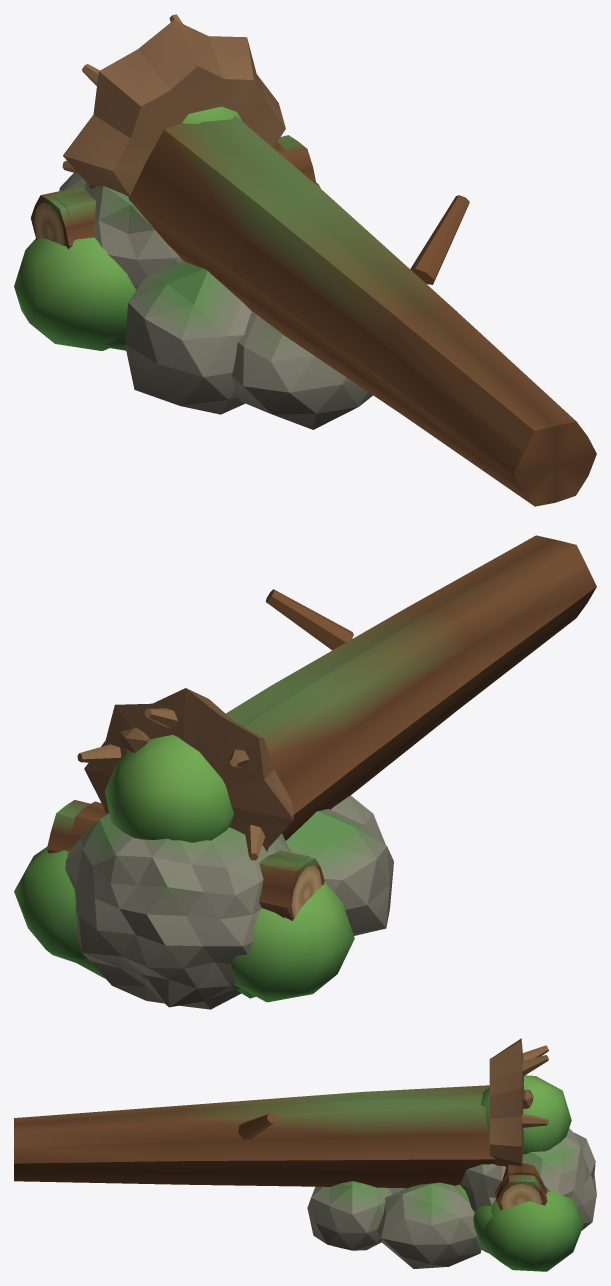
Rendered from props.glb.
3 renders of one model, top to bottom at view 1: azimuth 30°, elevation 25°; view 2: azimuth 150°, elevation 25°; view 3: azimuth 270°, elevation 25°, orthographic. The views are drawn at different scales.
Visible parts, largest first — view 1: blocker_tree_mesh, blocker_rocks_mesh, bush_a_mesh, log_c_mesh, log_a_mesh, bush_b_mesh; view 2: blocker_tree_mesh, blocker_rocks_mesh, bush_a_mesh, bush_b_mesh, log_c_mesh, log_b_mesh; view 3: blocker_tree_mesh, blocker_rocks_mesh, bush_a_mesh, bush_b_mesh, log_c_mesh, bush_c_mesh, log_b_mesh.
Boxes of the visible parts, x1,y1,x2,y2 form: blocker_tree_mesh: [62, 14, 596, 506]; blocker_rocks_mesh: [59, 173, 372, 429]; bush_a_mesh: [14, 183, 320, 350]; log_c_mesh: [31, 135, 316, 249]; log_a_mesh: [52, 189, 95, 239]; bush_b_mesh: [105, 106, 242, 350]; blocker_tree_mesh: [77, 535, 596, 860]; blocker_rocks_mesh: [65, 795, 393, 1009]; bush_a_mesh: [14, 847, 354, 1002]; bush_b_mesh: [69, 735, 255, 998]; log_c_mesh: [47, 800, 324, 920]; log_b_mesh: [66, 801, 107, 851]; blocker_tree_mesh: [14, 1038, 548, 1188]; blocker_rocks_mesh: [307, 1128, 596, 1268]; bush_a_mesh: [454, 1184, 583, 1271]; bush_b_mesh: [481, 1075, 571, 1154]; log_c_mesh: [496, 1175, 547, 1210]; bush_c_mesh: [473, 1205, 505, 1265]; log_b_mesh: [495, 1163, 547, 1196].
Bounding box in the file's own units: 2.27 × 2.22 × 5.51.
